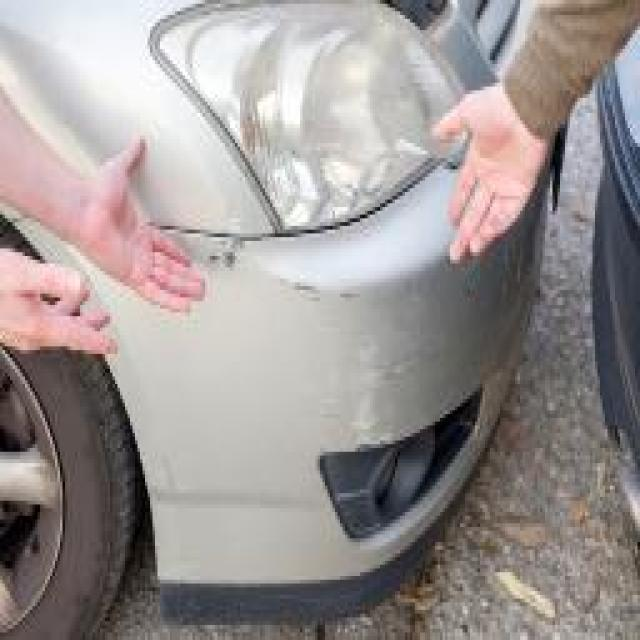Bumper: (195, 233, 465, 535)
